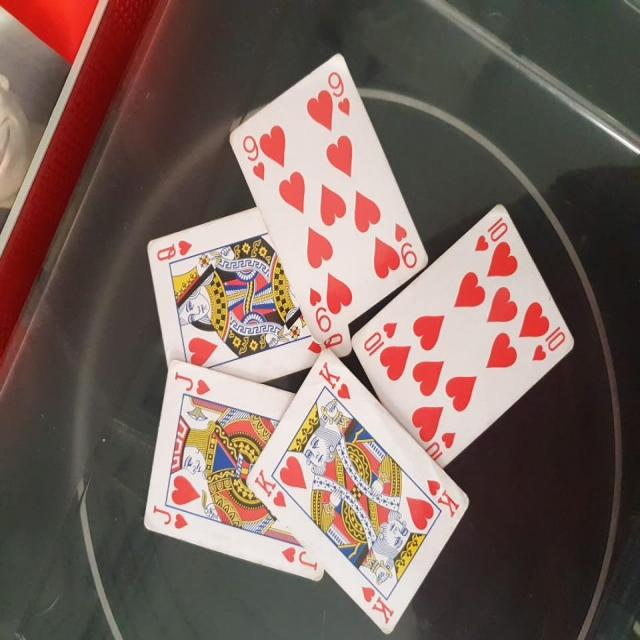10 Hearts: (342, 189, 579, 466)
9 Hearts: (223, 51, 439, 348)
J Hearts: (144, 354, 329, 605)
K Hearts: (242, 348, 467, 636)
Q Hearts: (143, 202, 350, 381)
